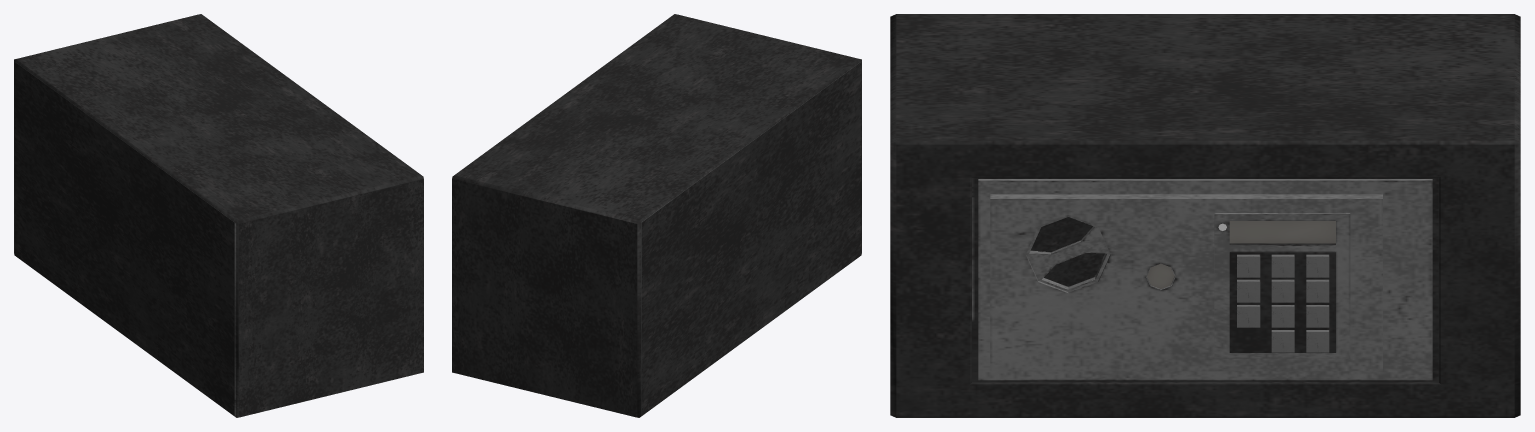
File: Cofre_Com_Senha_2.fbx
The picture shows the model from 3 angles, left to right: view 1: azimuth 30°, elevation 25°; view 2: azimuth 150°, elevation 25°; view 3: azimuth 270°, elevation 25°; orthographic projection. The views are drawn at different scales.
Parts seen in each view (by area): view 1: Cofre; view 2: Cofre; view 3: Cofre, Porta_Cofre, Abrir_Porta, Botão_1, Botão_2, Botão_3, Botão_4, Botão_5, Botão_6.
Boxes of the visible parts, x1,y1,x2,y2 form: Cofre: (14, 14, 423, 417); Cofre: (452, 14, 861, 417); Cofre: (890, 14, 1520, 417); Porta_Cofre: (978, 179, 1432, 380); Abrir_Porta: (1026, 216, 1110, 291); Botão_1: (1237, 254, 1260, 277); Botão_2: (1271, 254, 1294, 277); Botão_3: (1306, 254, 1329, 277); Botão_4: (1237, 279, 1260, 302); Botão_5: (1271, 279, 1294, 302); Botão_6: (1306, 279, 1329, 302).
Size of the model in its own units: 38.83 by 36.52 by 75.26.
